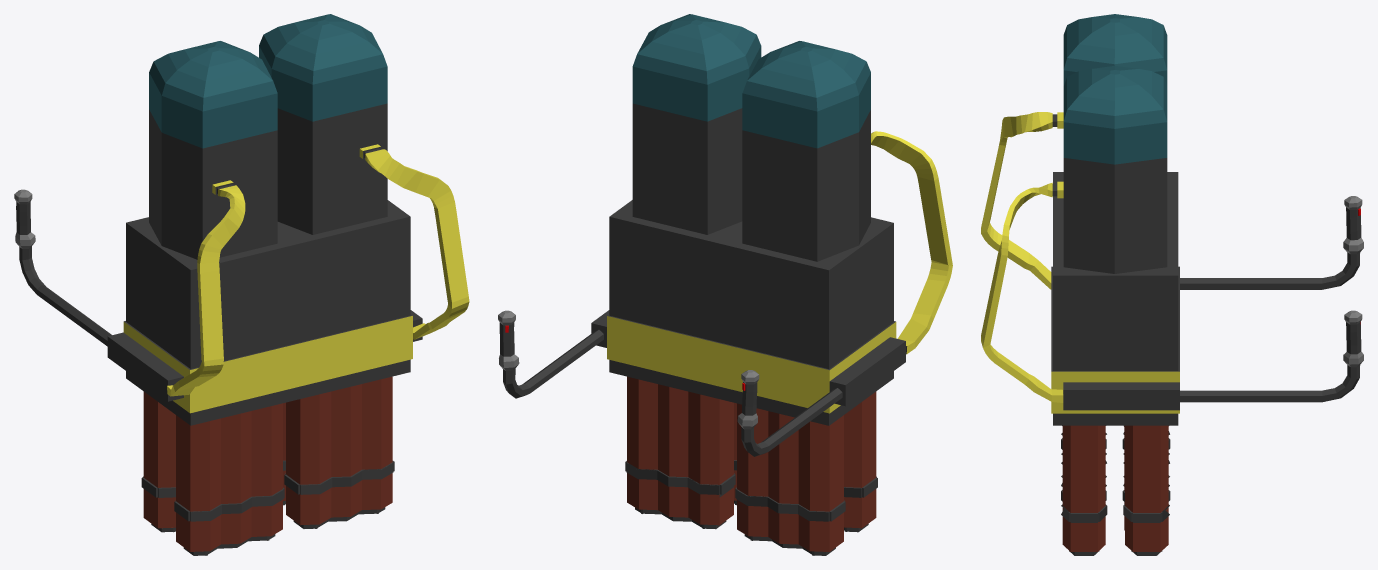
The model's file is jetpack2.fbx.
3 views of the same model, side by side, from view 1: azimuth 30°, elevation 25°; view 2: azimuth 150°, elevation 25°; view 3: azimuth 270°, elevation 25° (orthographic). The views are drawn at different scales.
Visible parts, largest first — view 1: JetPack; view 2: JetPack; view 3: JetPack.
Part boxes in pixels (x1=…): JetPack: x1=14, y1=14, x2=469, y2=555; JetPack: x1=498, y1=14, x2=952, y2=555; JetPack: x1=981, y1=14, x2=1363, y2=555.
Size of the model in its own units: 96.85 by 165 by 123.
